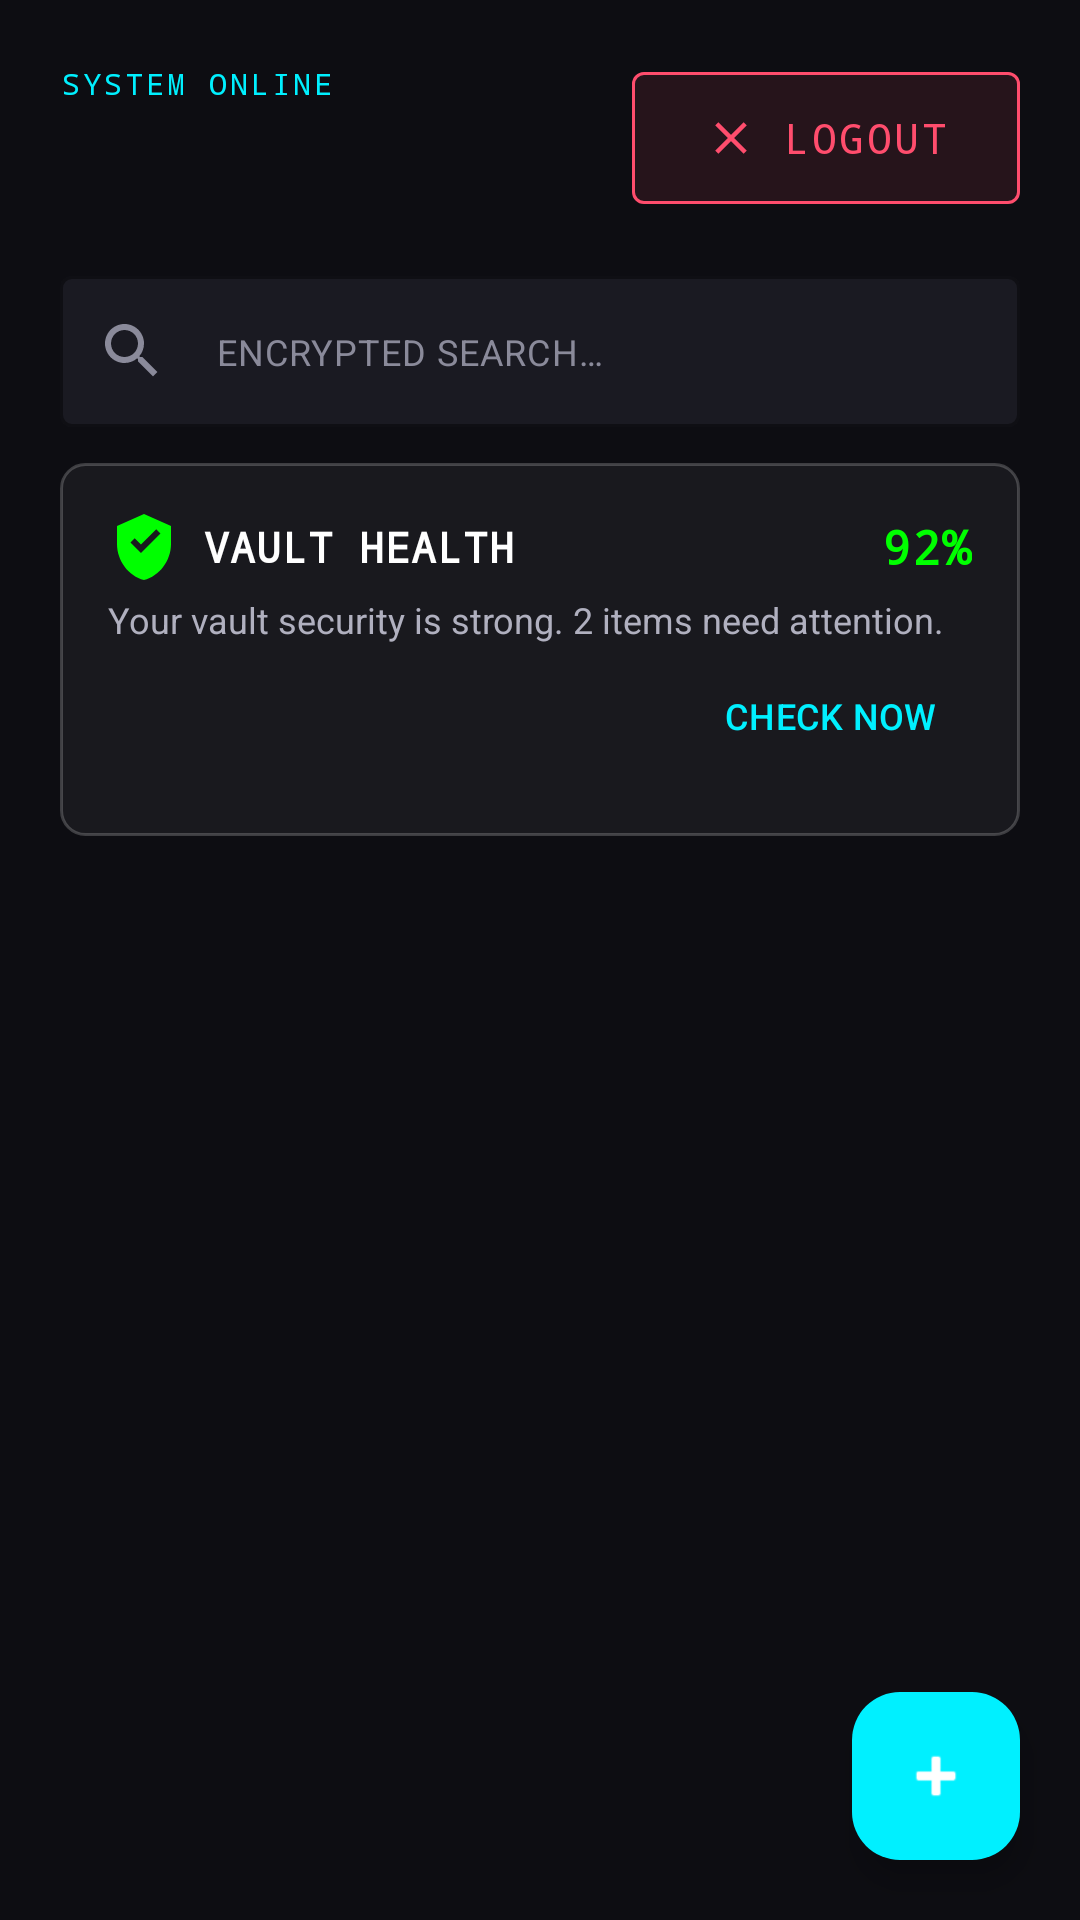

Icon bounding boxes for this 1080 x 1920 phone screenshot, format {"left": x1, "top": y1, "right": x2, "bottom": y2}:
Add Password: {"left": 852, "top": 1692, "right": 1020, "bottom": 1860}
shield check: {"left": 117, "top": 514, "right": 171, "bottom": 580}
